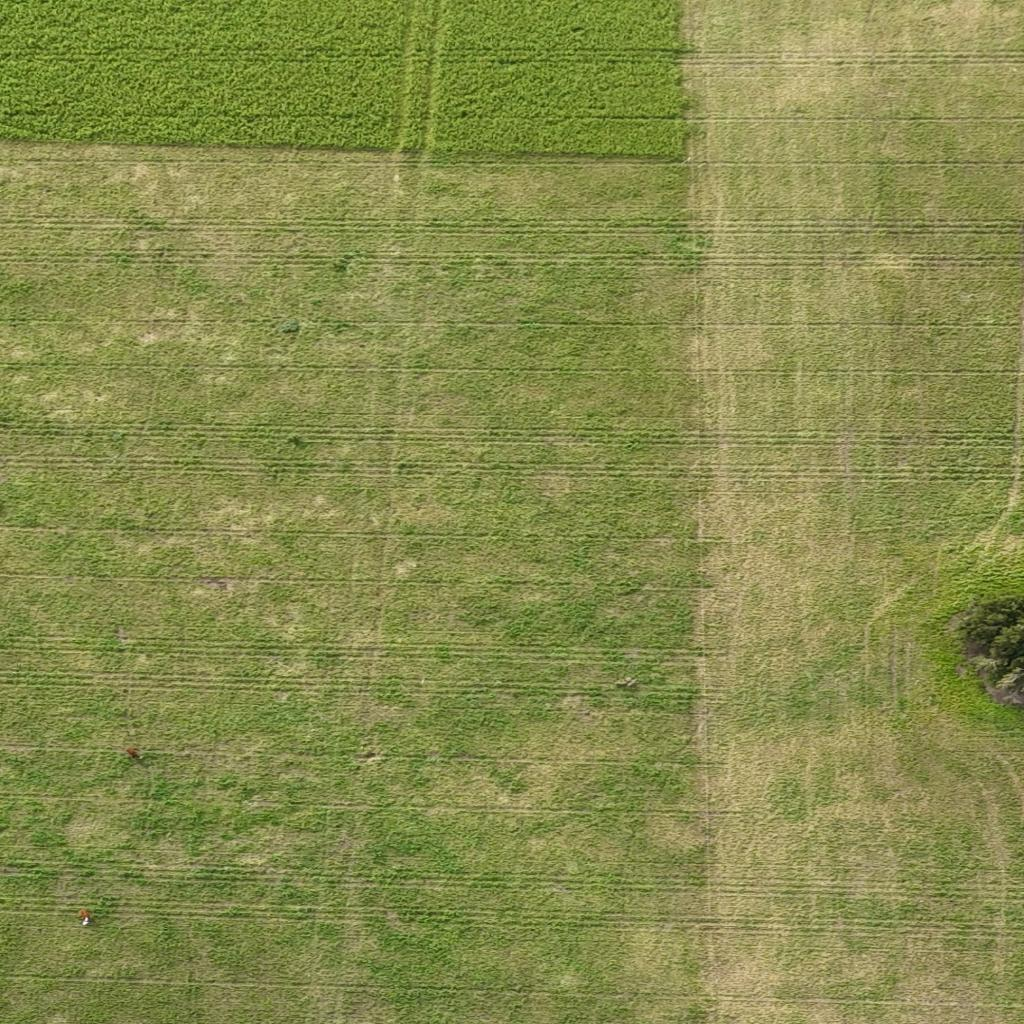cow: (75, 906, 93, 925), (124, 746, 142, 759)
